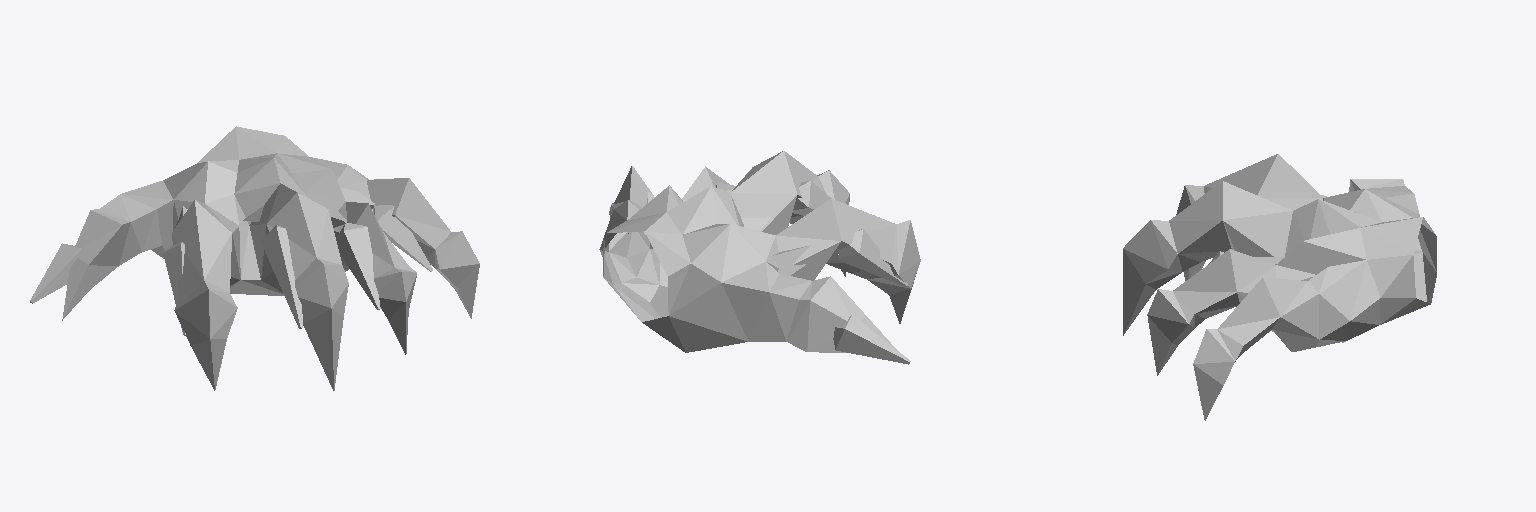
File: ManoIzquierda.obj
3 views of the same model, side by side, from view 1: azimuth 30°, elevation 25°; view 2: azimuth 150°, elevation 25°; view 3: azimuth 270°, elevation 25° (orthographic).
Visible parts, largest first — view 1: aca.014_aca.015; view 2: aca.014_aca.015; view 3: aca.014_aca.015.
Part boxes in pixels (bbox=[...]): aca.014_aca.015: bbox=[30, 126, 479, 390]; aca.014_aca.015: bbox=[599, 151, 920, 364]; aca.014_aca.015: bbox=[1123, 154, 1436, 420].
Bounding box in the file's own units: 0.5792 × 0.2445 × 0.4284.